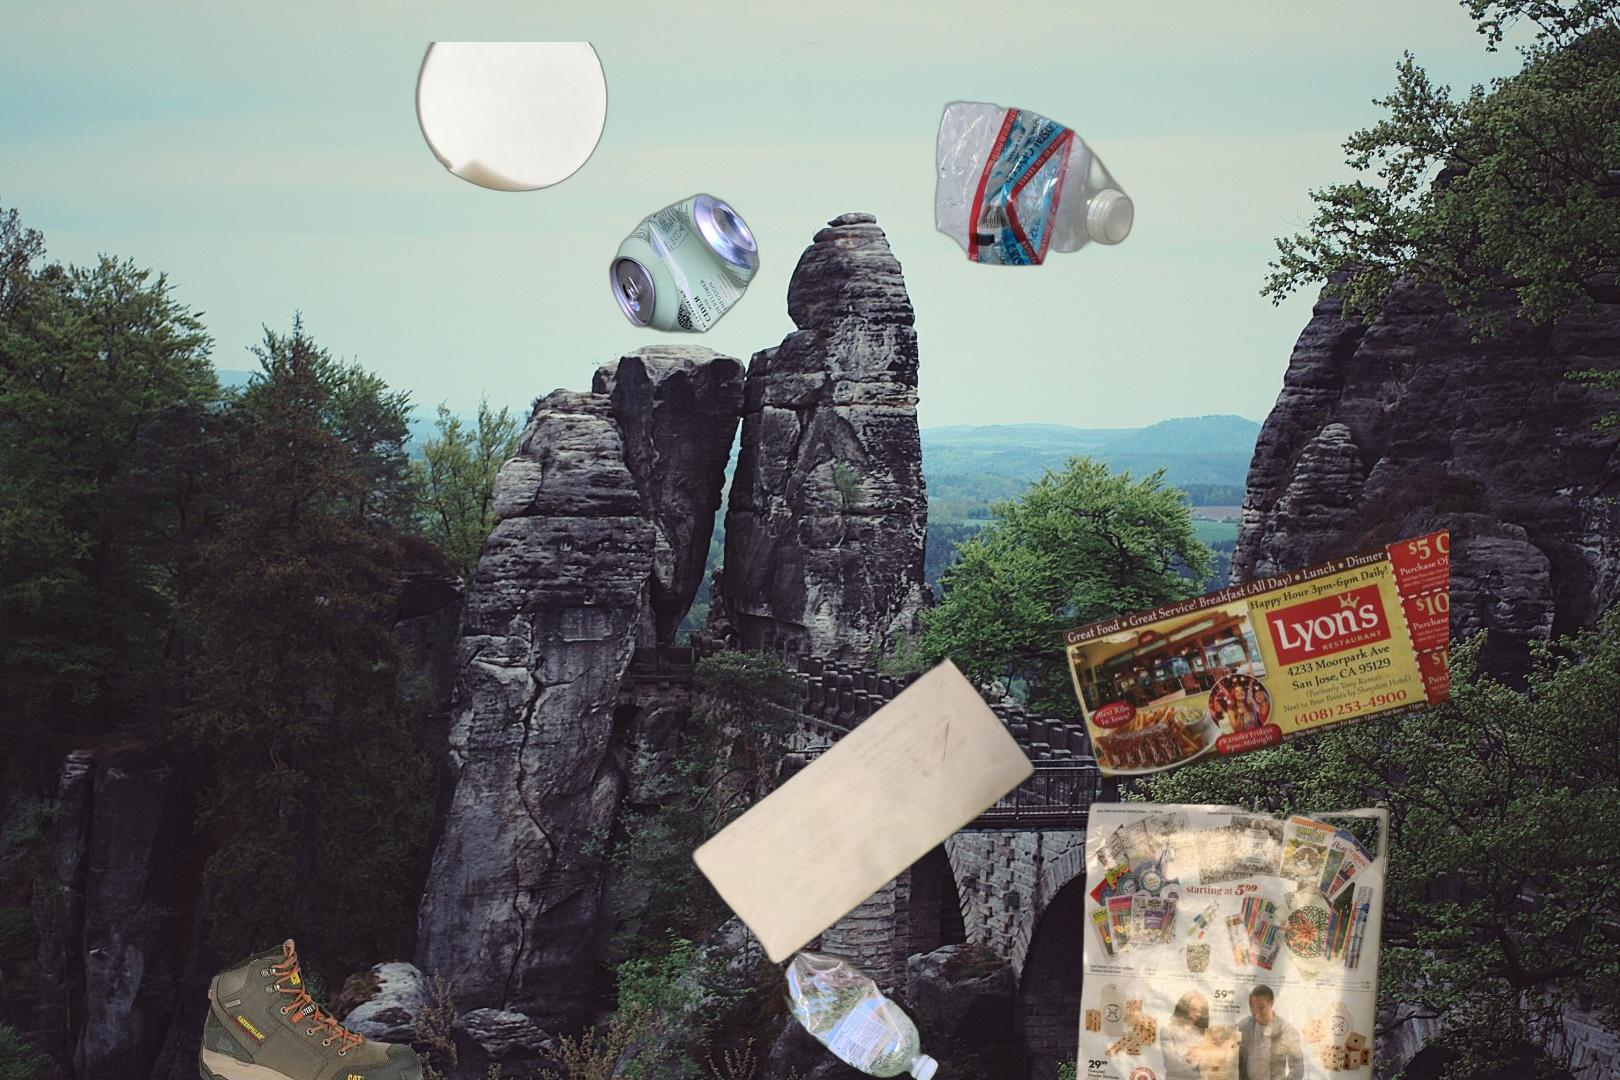metal-cans: (605, 188, 763, 337)
paper: (686, 653, 1040, 969), (1052, 523, 1449, 792), (1069, 798, 1395, 1080), (411, 42, 834, 195)
plastic-bottles: (931, 98, 1138, 270), (687, 945, 943, 1080)
shoes: (199, 937, 424, 1080)
